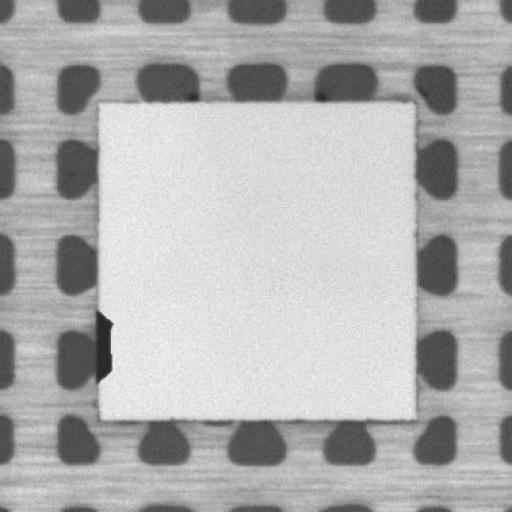DIE_BROKEN: (90, 309, 115, 389)
